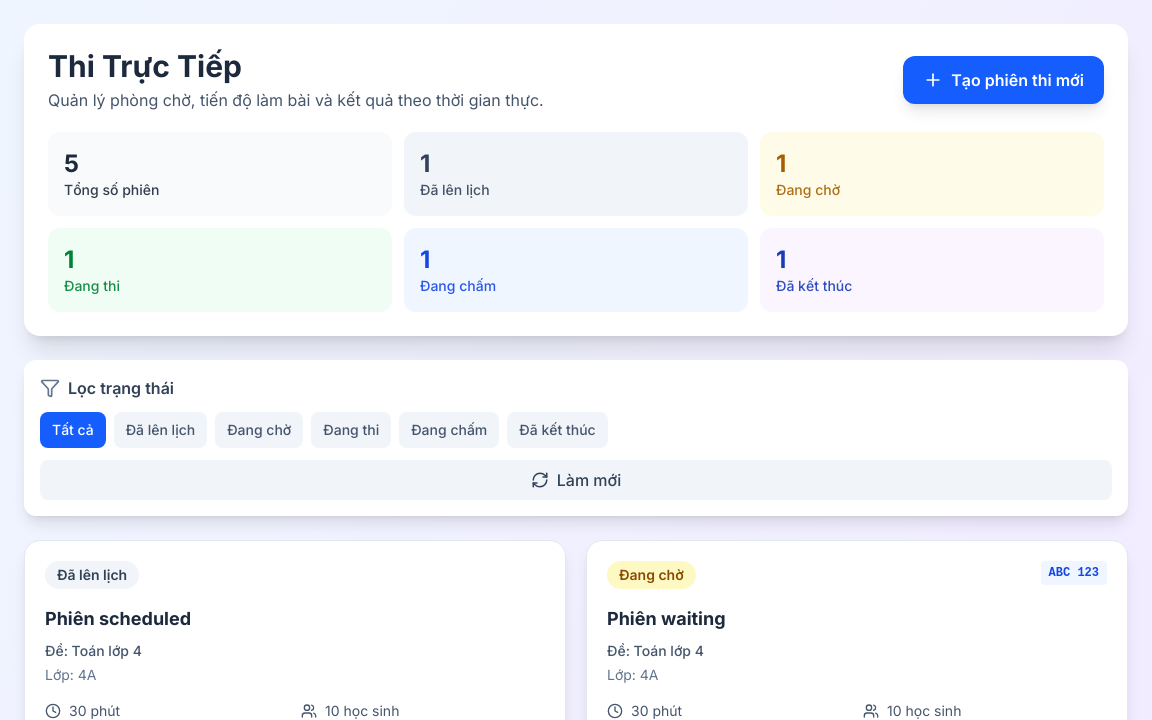
Test: live exam teacher dashboard › requires selecting a class before enabling session creation
Step 1. Click the button "Tạo phiên thi mới" → click(1004, 80), box [903,56,1104,104]
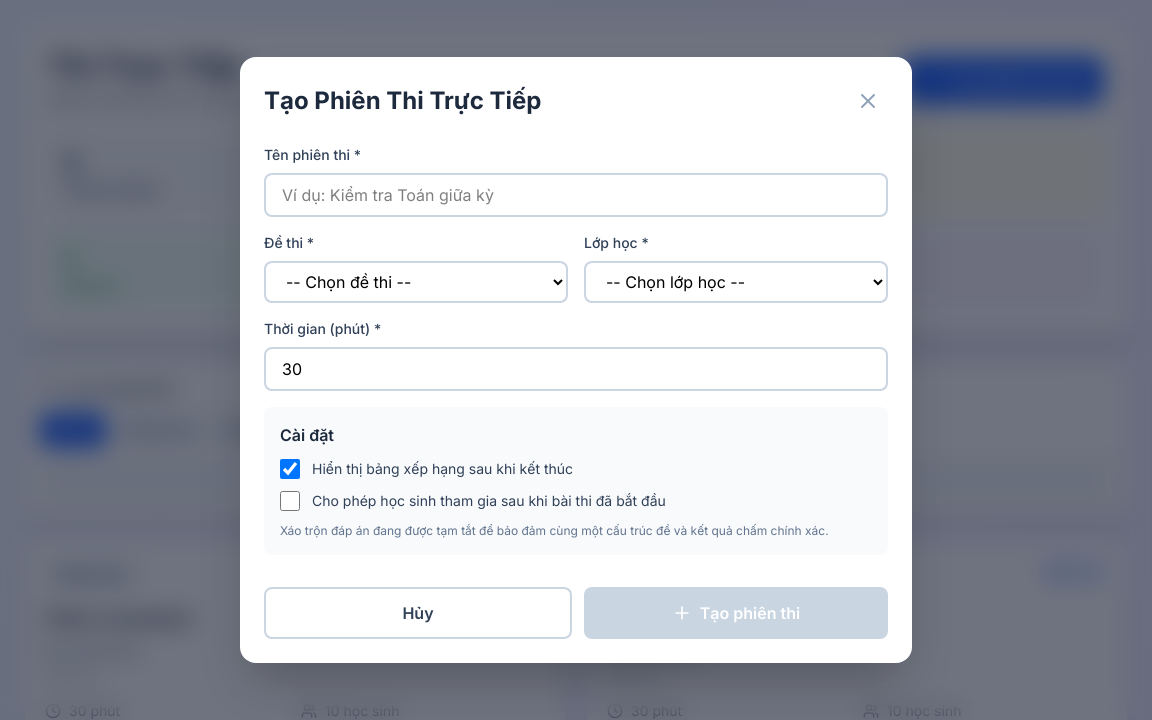
Step 2. Type "Kiểm tra Toán" into the field labelled "Tên phiên thi *" → (576, 195), box [264,173,888,217]
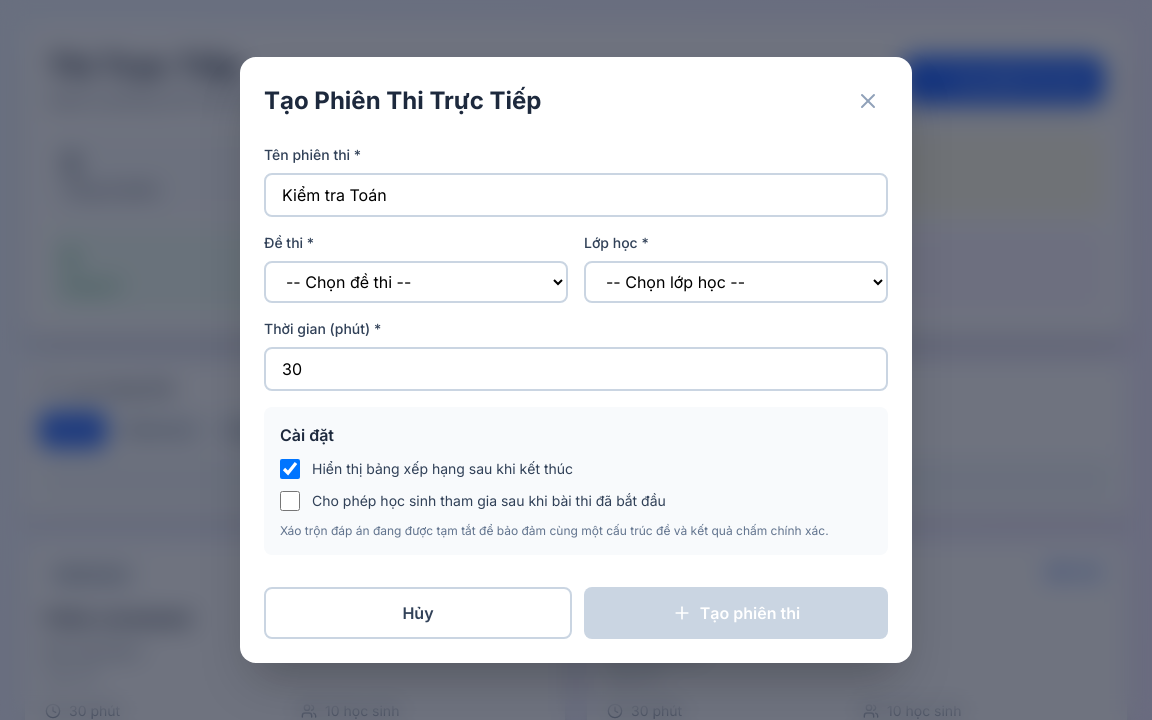
Step 3. Select "Toán lớp 4 (10 câu)" in the dropdown labelled "Đề thi *" → (416, 282), box [264,261,568,303]
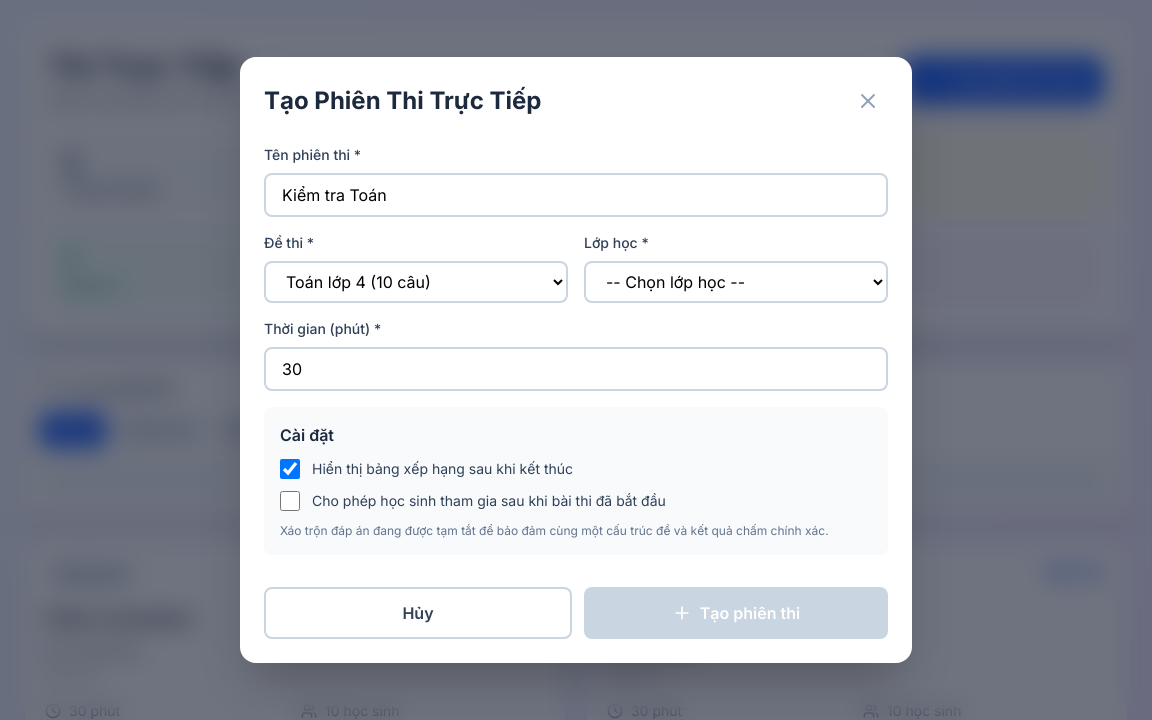
Check: the button "Tạo phiên thi" is disabled, box [584,587,888,639]
Step 4. Select "4A" in the dropdown labelled "Lớp học *" → (736, 282), box [584,261,888,303]
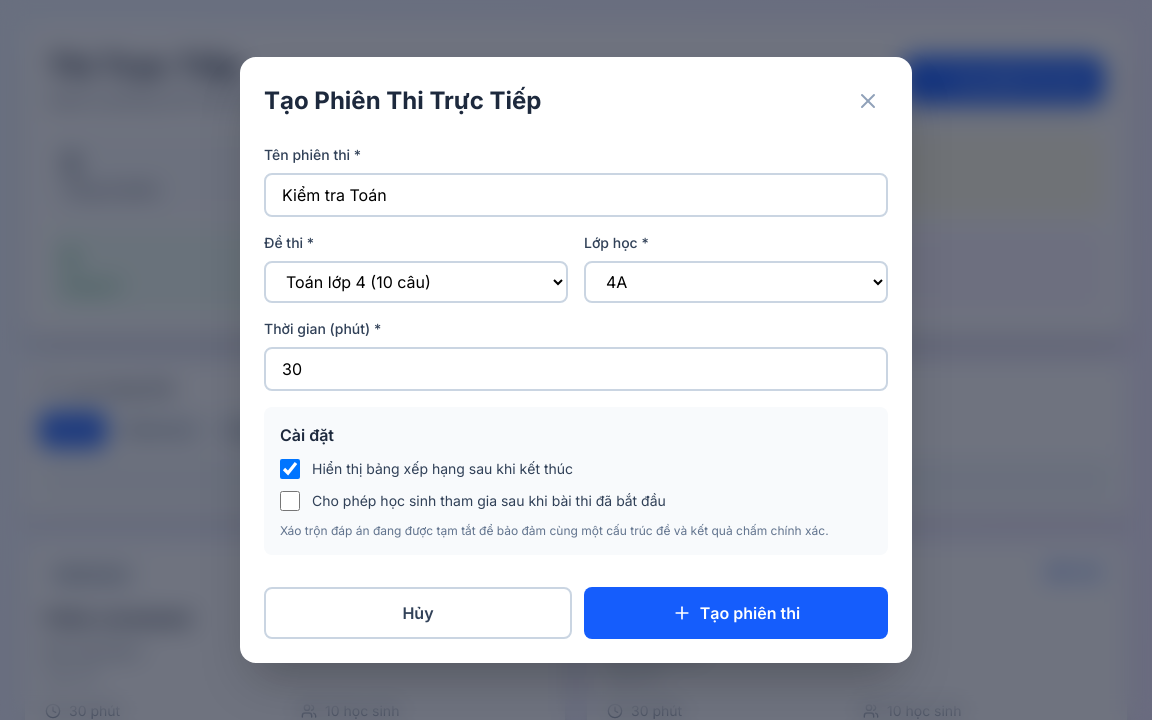
Check: the button "Tạo phiên thi" is enabled, box [584,587,888,639]
